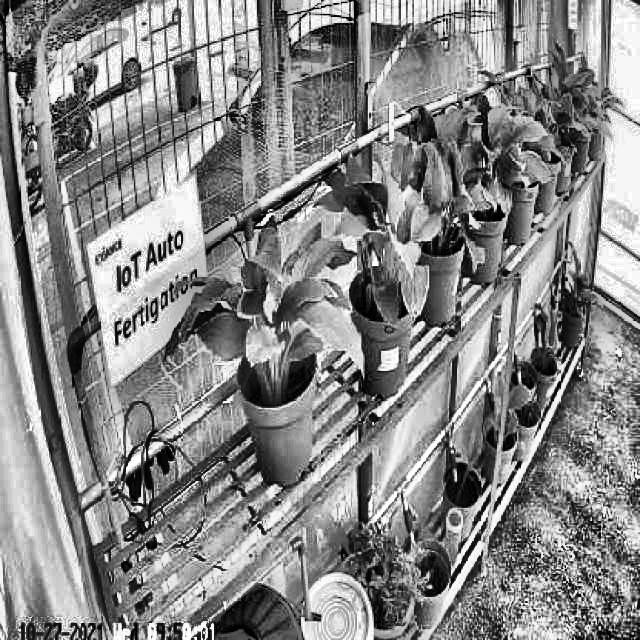plants: (162, 218, 368, 396), (323, 159, 429, 332), (392, 104, 486, 281), (453, 91, 552, 220)
